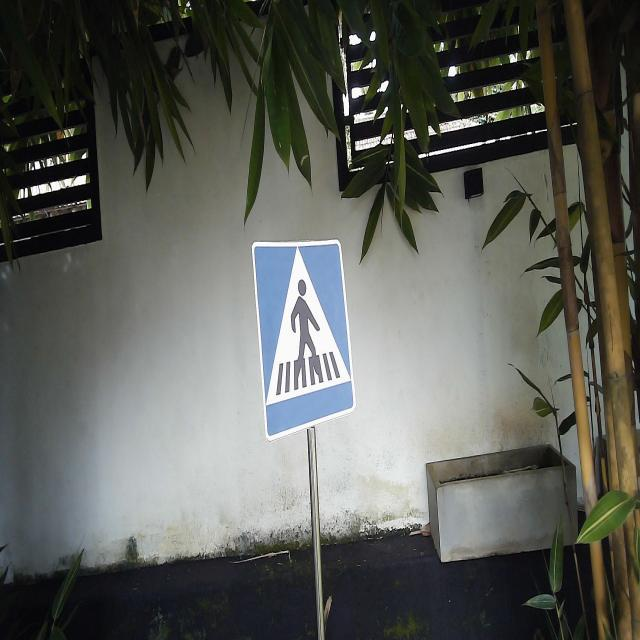crosswalk_sign: (250, 236, 357, 444)
